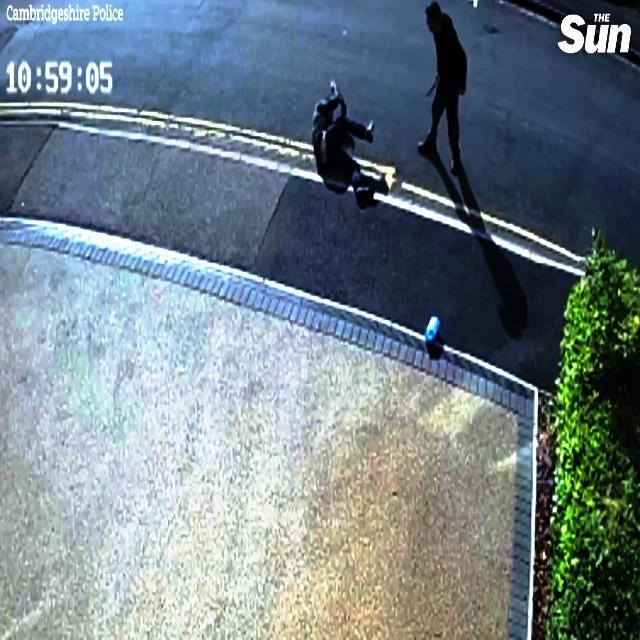Knife: (418, 69, 447, 106)
